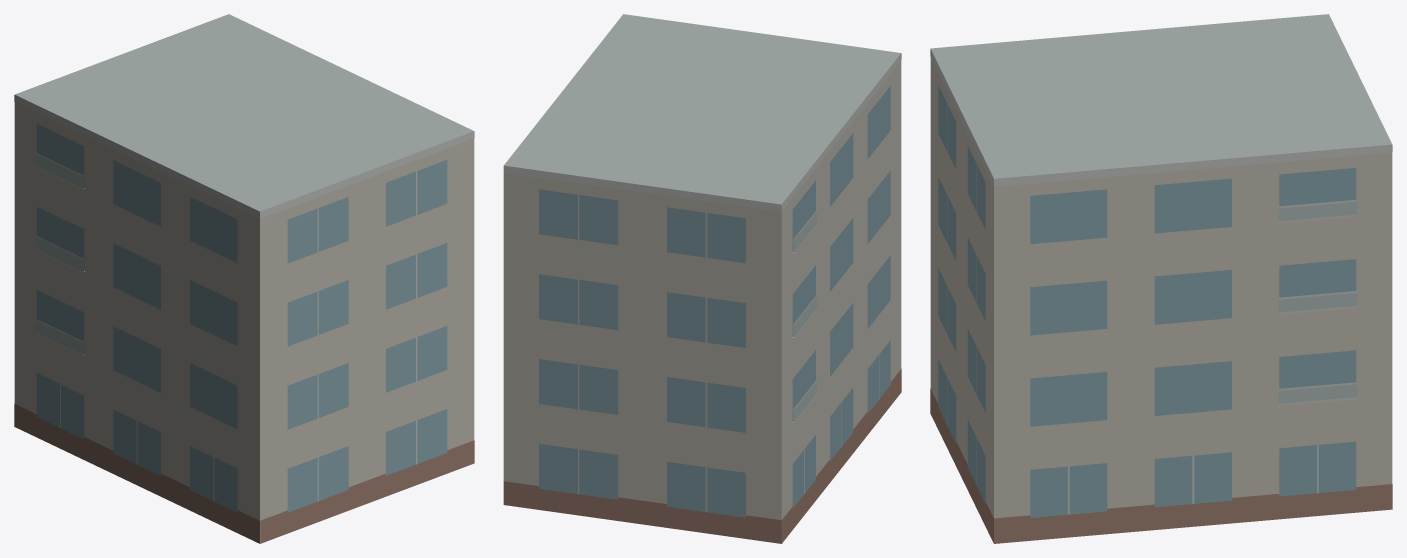
The model's file is survey-upis-32743925.glb.
The picture shows the model from 3 angles, left to right: view 1: azimuth 30°, elevation 25°; view 2: azimuth 150°, elevation 25°; view 3: azimuth 270°, elevation 25°; orthographic projection. The views are drawn at different scales.
Visible parts, largest first — view 1: survey-upis-32743925.tmp; view 2: survey-upis-32743925.tmp; view 3: survey-upis-32743925.tmp.
Part boxes in pixels (x1,y1,x2,y2): survey-upis-32743925.tmp: (14, 14, 474, 543); survey-upis-32743925.tmp: (503, 14, 901, 543); survey-upis-32743925.tmp: (930, 14, 1392, 543).
Bounding box in the file's own units: 10.76 × 11.1 × 12.74.
